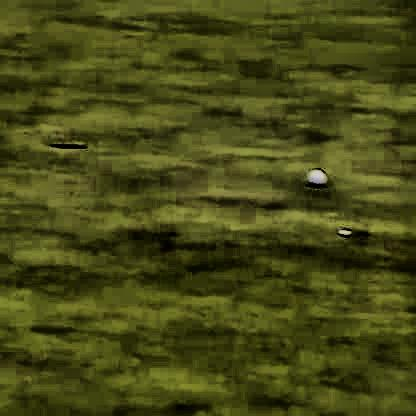golfball: (304, 167, 323, 185)
